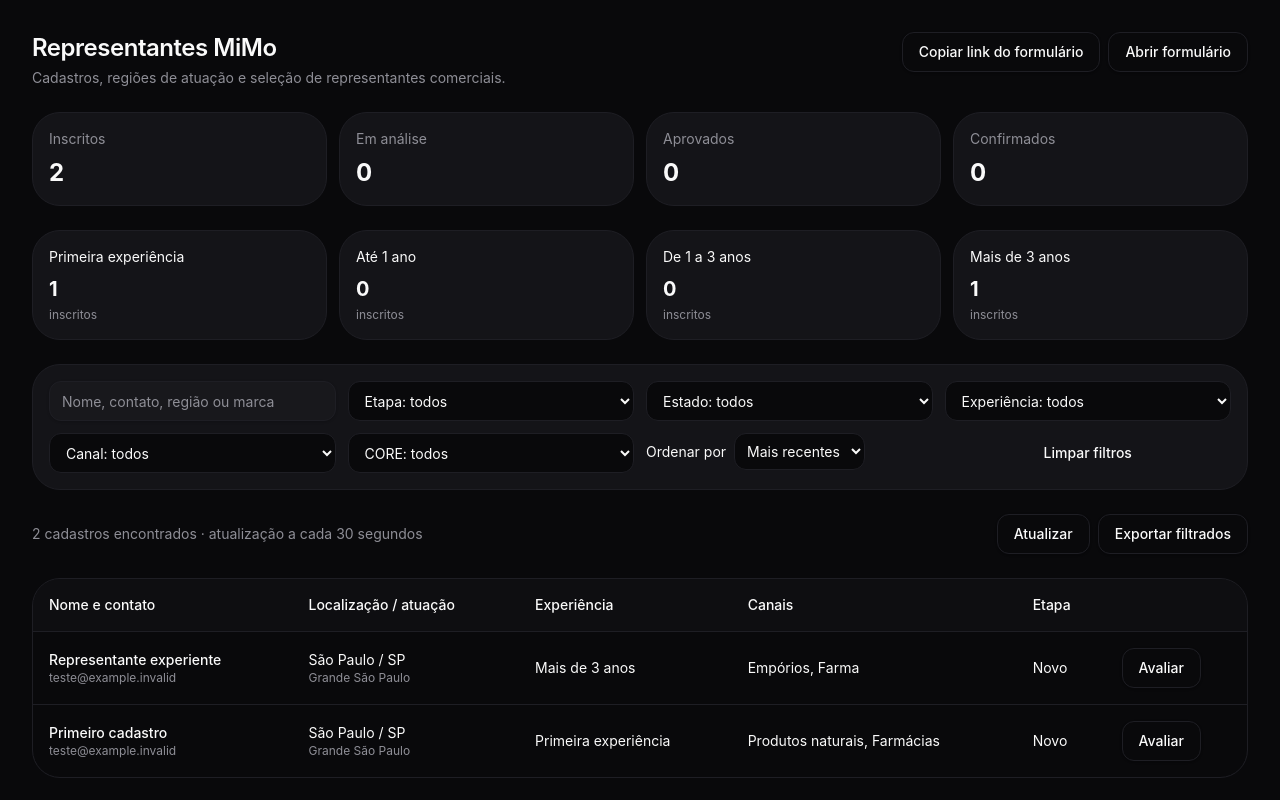
Test: atualiza contagem, filtra seleção e exibe ficha completa com exclusão confirmada
The width and height of the screenshot is (1280, 800).
Later steps or results of the test are not shown.
Expected: the text "Representante experiente" is shown, [49,651,221,668]
Expected: the 2nd text "1" is shown, [970,277,979,301]
Select "Mais de 3 anos" in the dropdown named "Experiência" at (1088, 401), box [944,381,1231,421]
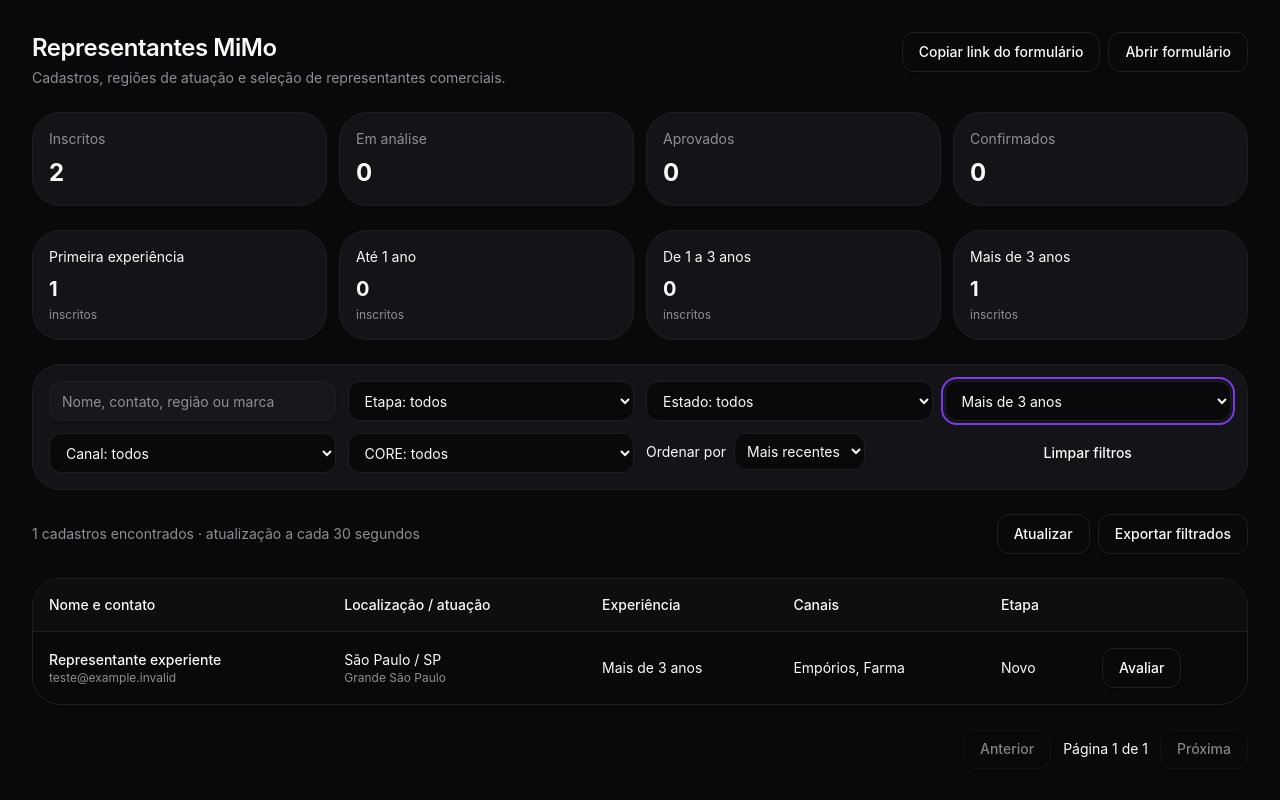
Expected: the text "Primeiro cadastro" is gone
Click the button "Avaliar".
click(1142, 668)  # box [1102,648,1181,688]
(page scrolled)
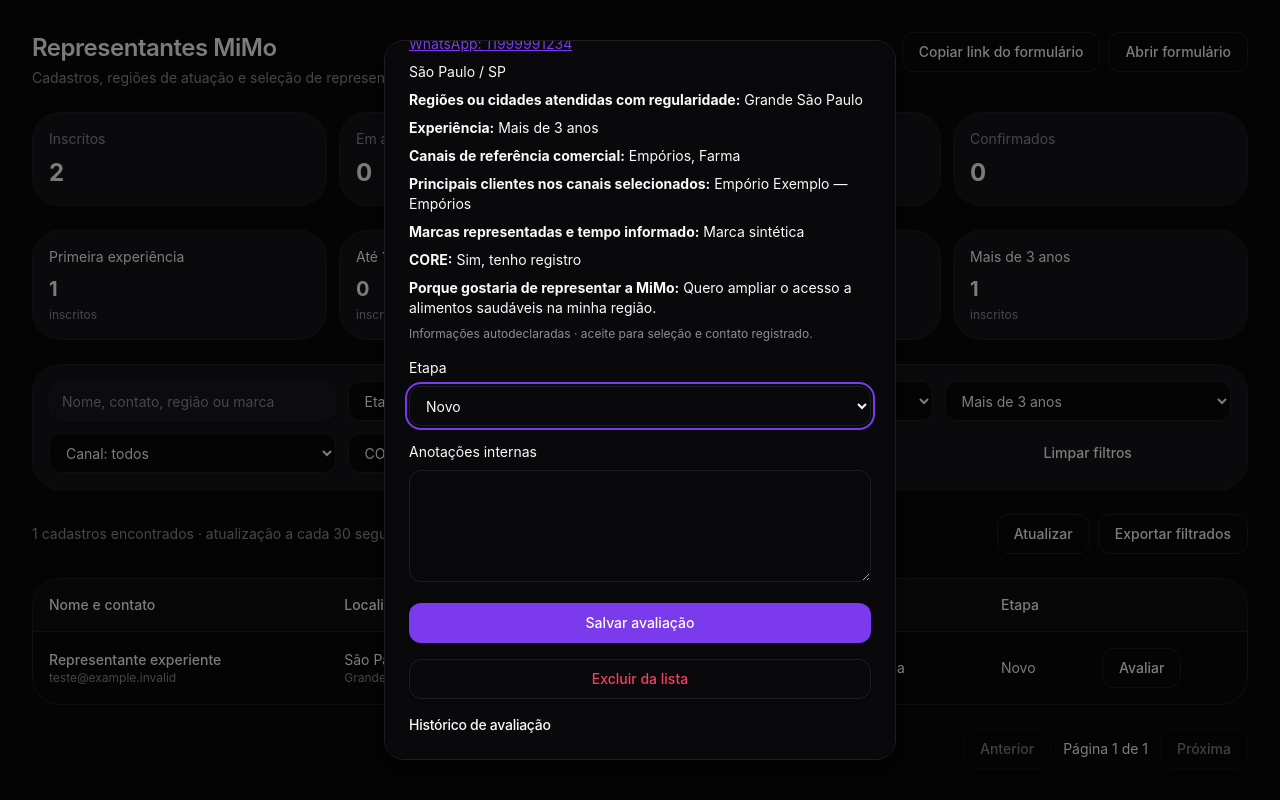
Expected: the link "WhatsApp: 11999991234" is shown, [409,40,572,52]
Expected: the text "Marca sintética" is shown, [703,223,804,240]
Expected: the text "Empório Exemplo — Empórios" is shown, [409,175,851,212]
